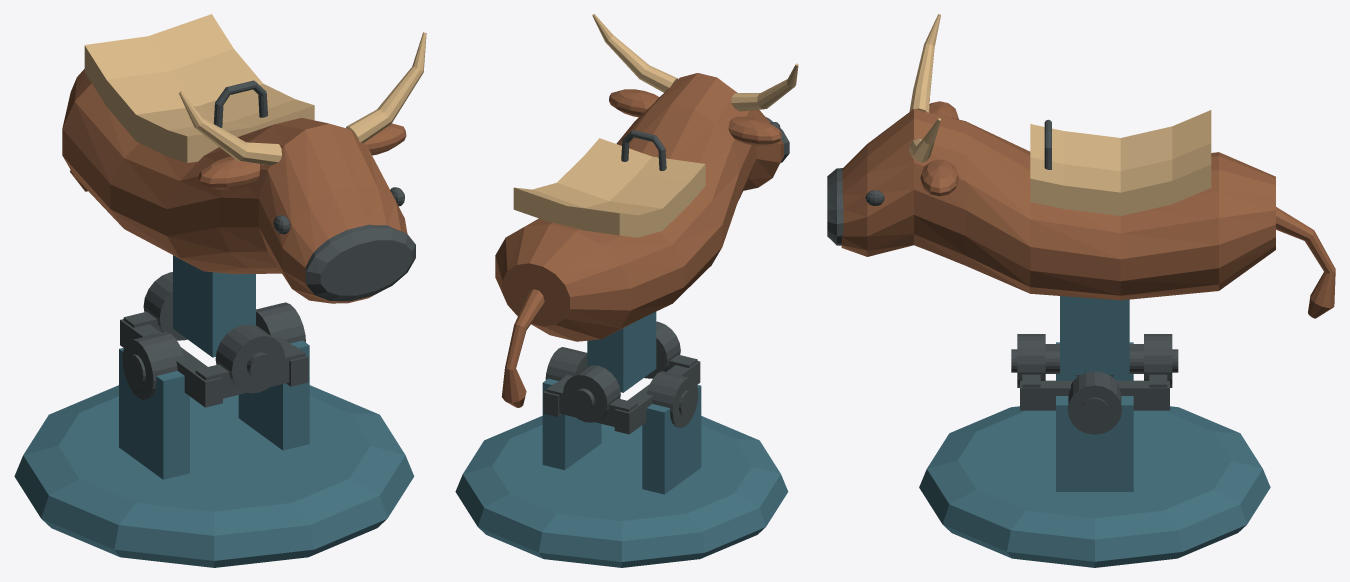
The picture shows the model from 3 angles, left to right: view 1: azimuth 30°, elevation 25°; view 2: azimuth 150°, elevation 25°; view 3: azimuth 270°, elevation 25°; orthographic projection. The views are drawn at different scales.
Parts seen in each view (by area): view 1: WholeGroundFootBroadPedestal, WholeContinuousBullSeatShoulderAndMuzzleShell, WholeConcaveRidingSaddlePad, WholeBroadBluntNosePad, WholeLowerTrunnionCheek_0, WholeSeatShellMountingStem, WholeLowerTrunnionCheek_1, WholeBoredUpperEndBearing_0, WholeBoredLowerSideBearing_0, WholeBluntOutwardUpturnedHorn_1, WholeBluntOutwardUpturnedHorn_0, WholeIntermediateSideRail_0 (+8 smaller); view 2: WholeGroundFootBroadPedestal, WholeContinuousBullSeatShoulderAndMuzzleShell, WholeConcaveRidingSaddlePad, WholeLowerTrunnionCheek_0, WholeSeatShellMountingStem, WholeLowerTrunnionCheek_1, WholeBoredUpperEndBearing_1, WholeShortHangingTail, WholeBoredLowerSideBearing_0, WholeBluntOutwardUpturnedHorn_1, WholeIntermediateSideRail_0, WholeLateralEar_0 (+7 smaller); view 3: WholeContinuousBullSeatShoulderAndMuzzleShell, WholeGroundFootBroadPedestal, WholeConcaveRidingSaddlePad, WholeLowerTrunnionCheek_1, WholeSeatShellMountingStem, WholeIntermediateSideRail_1, WholeBoredLowerSideBearing_1, WholeShortHangingTail, WholeBluntOutwardUpturnedHorn_0, WholeBoredUpperEndBearing_0, WholeBoredUpperEndBearing_1, WholeBroadBluntNosePad (+3 smaller).
Boxes of the visible parts, box(x1,y1,x2,y2) form: WholeGroundFootBroadPedestal: box(14, 385, 414, 567); WholeContinuousBullSeatShoulderAndMuzzleShell: box(62, 69, 407, 303); WholeConcaveRidingSaddlePad: box(84, 14, 314, 162); WholeBroadBluntNosePad: box(305, 224, 415, 301); WholeLowerTrunnionCheek_0: box(119, 347, 189, 479); WholeSeatShellMountingStem: box(173, 255, 255, 357); WholeLowerTrunnionCheek_1: box(238, 340, 309, 450); WholeBoredUpperEndBearing_0: box(215, 324, 285, 393); WholeBoredLowerSideBearing_0: box(122, 331, 184, 399); WholeBluntOutwardUpturnedHorn_1: box(346, 32, 426, 142); WholeBluntOutwardUpturnedHorn_0: box(179, 91, 281, 165); WholeIntermediateSideRail_0: box(120, 319, 222, 407); WholeGroundFootBroadPedestal: box(455, 416, 788, 567); WholeContinuousBullSeatShoulderAndMuzzleShell: box(495, 73, 783, 341); WholeConcaveRidingSaddlePad: box(513, 138, 705, 237); WholeLowerTrunnionCheek_0: box(642, 384, 701, 494); WholeSeatShellMountingStem: box(587, 312, 656, 392); WholeLowerTrunnionCheek_1: box(542, 378, 601, 470); WholeBoredUpperEndBearing_1: box(563, 365, 620, 422); WholeShortHangingTail: box(501, 289, 544, 407); WholeBoredLowerSideBearing_0: box(646, 371, 698, 427); WholeBluntOutwardUpturnedHorn_1: box(592, 14, 677, 92); WholeIntermediateSideRail_0: box(614, 361, 700, 434); WholeLateralEar_0: box(728, 116, 781, 145); WholeContinuousBullSeatShoulderAndMuzzleShell: box(841, 109, 1275, 300); WholeGroundFootBroadPedestal: box(919, 406, 1270, 567); WholeConcaveRidingSaddlePad: box(1030, 110, 1211, 215); WholeLowerTrunnionCheek_1: box(1056, 396, 1133, 491); WholeSeatShellMountingStem: box(1060, 296, 1129, 374); WholeIntermediateSideRail_1: box(1020, 380, 1169, 410); WholeBoredLowerSideBearing_1: box(1067, 371, 1121, 434); WholeShortHangingTail: box(1276, 207, 1335, 318); WholeBluntOutwardUpturnedHorn_0: box(909, 14, 940, 112); WholeBoredUpperEndBearing_0: box(1017, 334, 1045, 387); WholeBoredUpperEndBearing_1: box(1144, 334, 1172, 387); WholeBroadBluntNosePad: box(827, 168, 843, 245).
Bounding box in the file's own units: 1.36 × 1.84 × 1.97.
